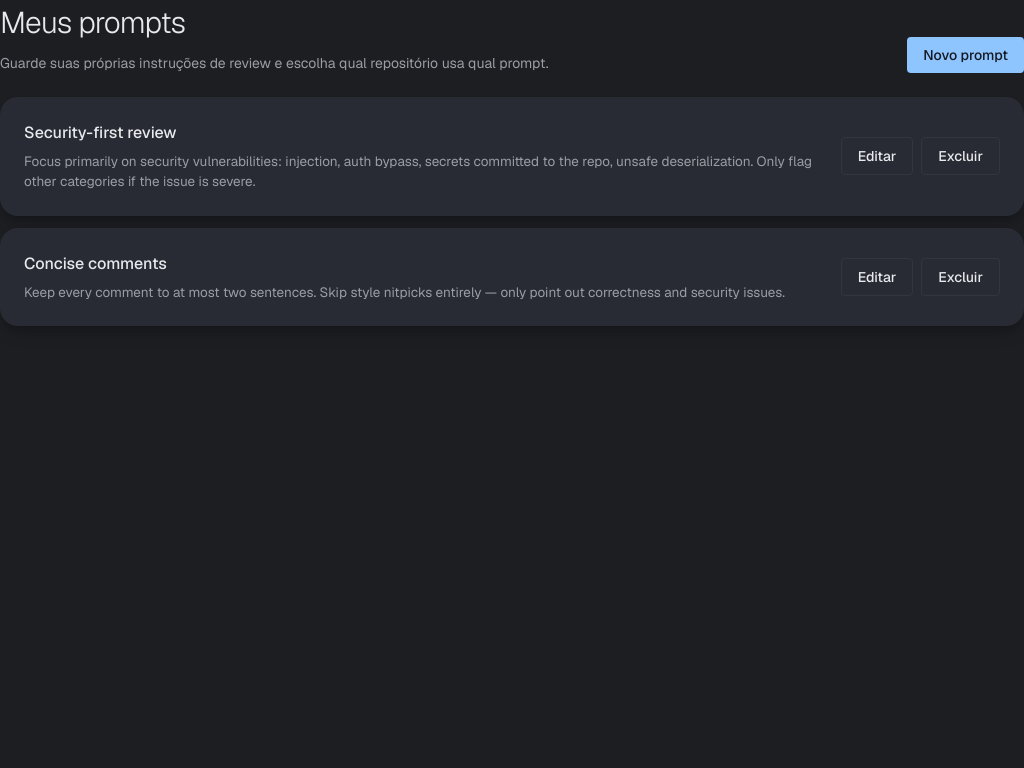
Scenario: PromptsPage › 'Novo prompt' opens the create modal, and saving adds the new prompt to the list without a reload
Expected: the text "Security-first review" is shown, 24,122 -> 177,143
Click the button "Novo prompt" at (966,55), box 907,37 -> 1023,73
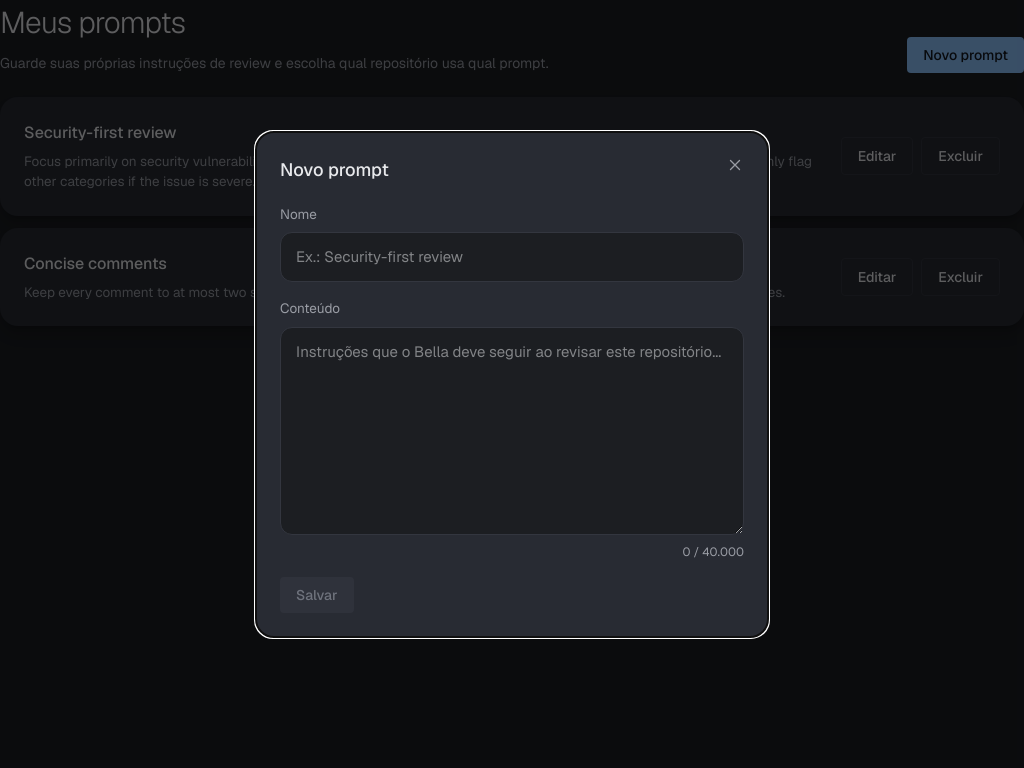
Expected: the heading "Novo prompt" is shown, 280,156 -> 389,184
Expected: the field labelled "Nome" is empty
Expected: the text box labelled "Conteúdo" is empty, 280,326 -> 744,534
Type "Testing focus" into the field labelled "Nome" at (512,257), box 280,232 -> 744,282
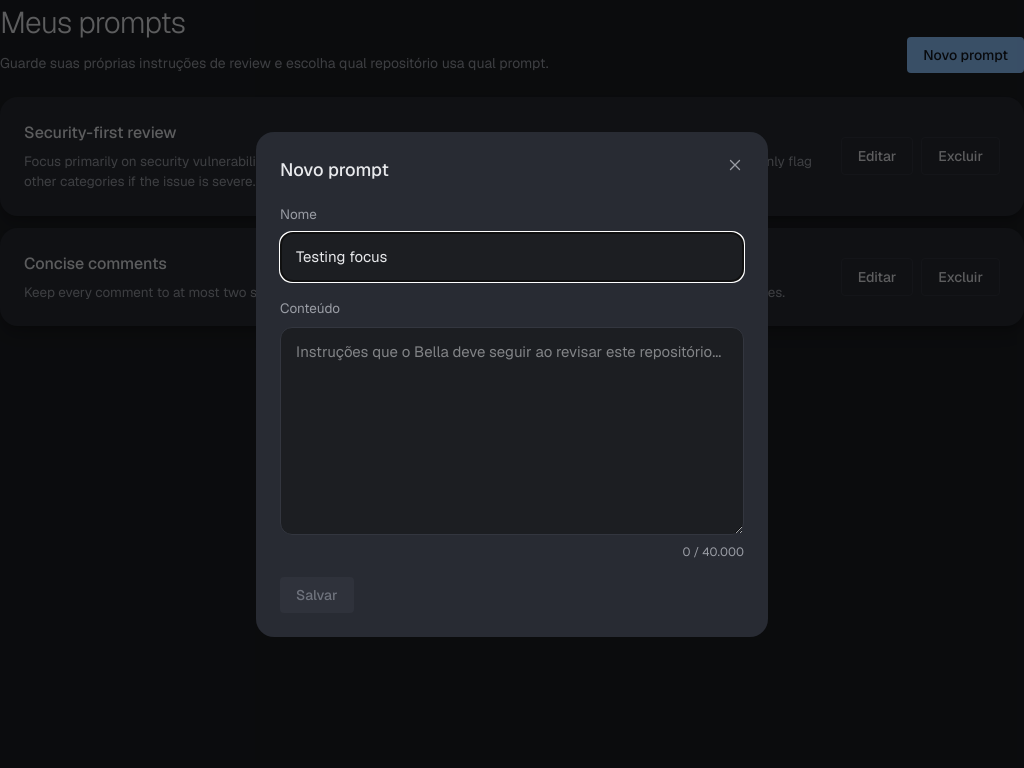
Type "Always ask for tests covering the new behavior." into the text box labelled "Conteúdo" at (512,430), box 280,326 -> 744,534
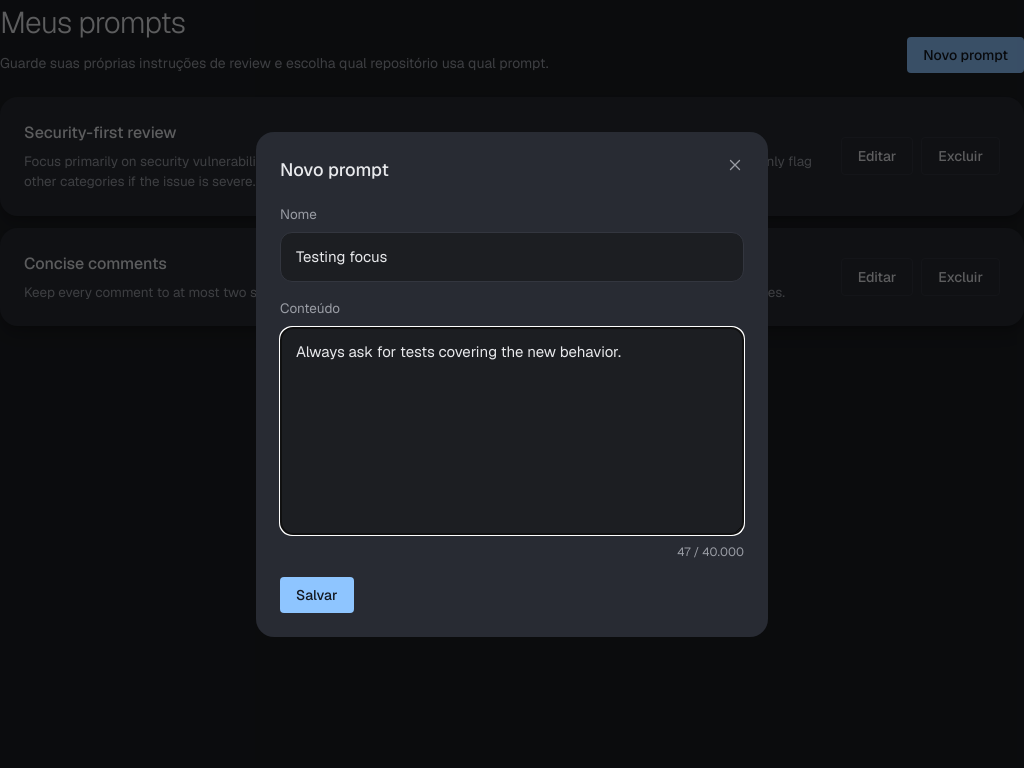
Click the button "Salvar" at (317,594), box 280,576 -> 354,612
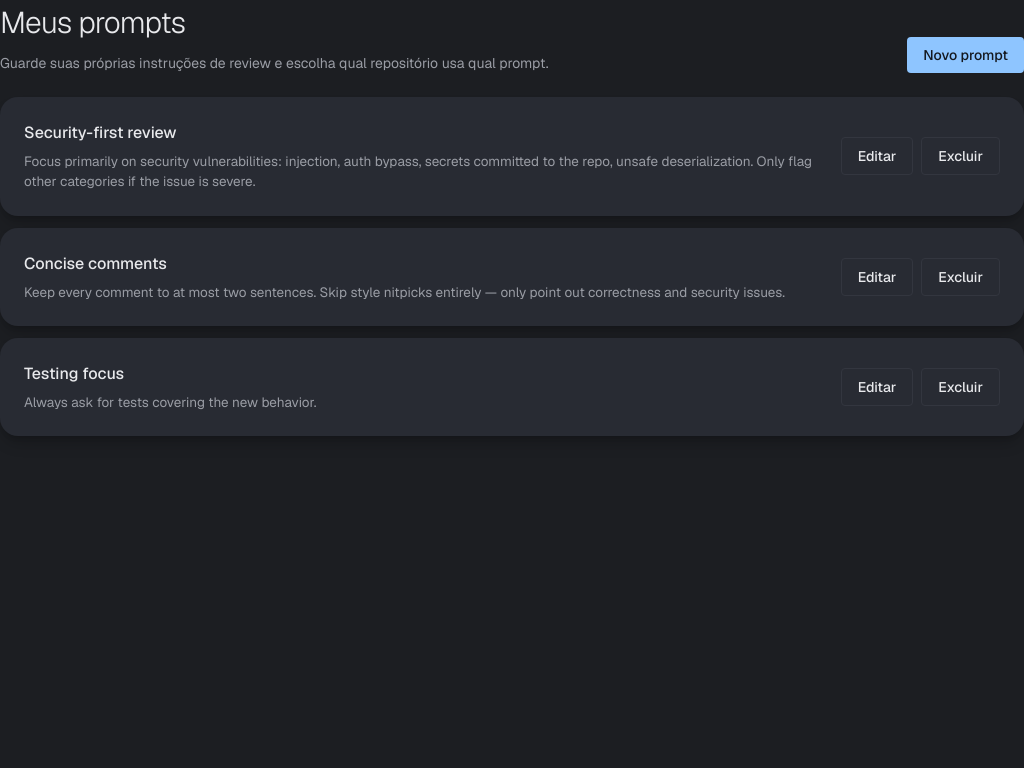
Expected: the dialog is gone
Expected: the text "Testing focus" is shown, 24,363 -> 124,384
Expected: the text "Always ask for tests covering the new behavior." is shown, 24,392 -> 316,412
